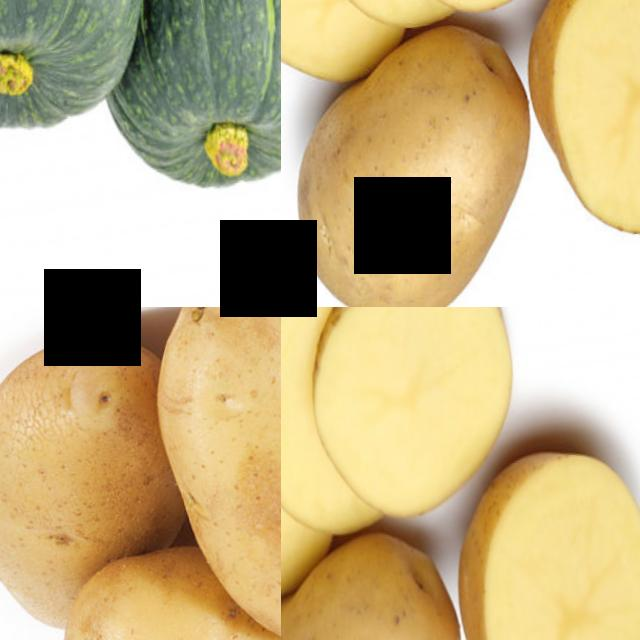potato: (281, 28, 548, 307), (0, 317, 177, 587), (141, 307, 281, 640), (439, 435, 640, 640), (510, 0, 640, 257), (281, 521, 489, 640), (53, 539, 281, 640)
pumpkin: (134, 0, 281, 207), (0, 0, 147, 155)
